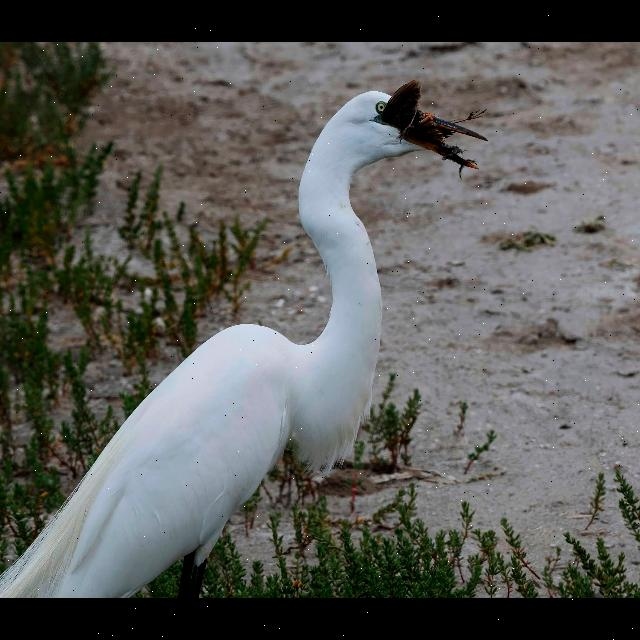egret: (0, 72, 500, 598)
